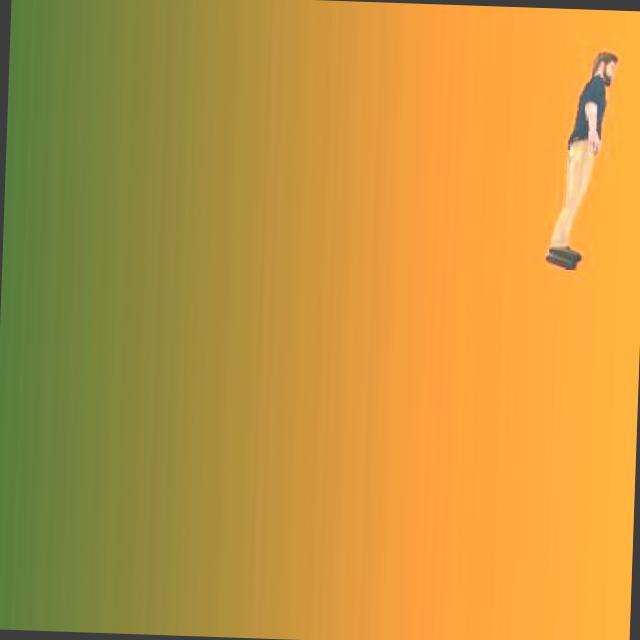Person: (542, 46, 618, 276)
